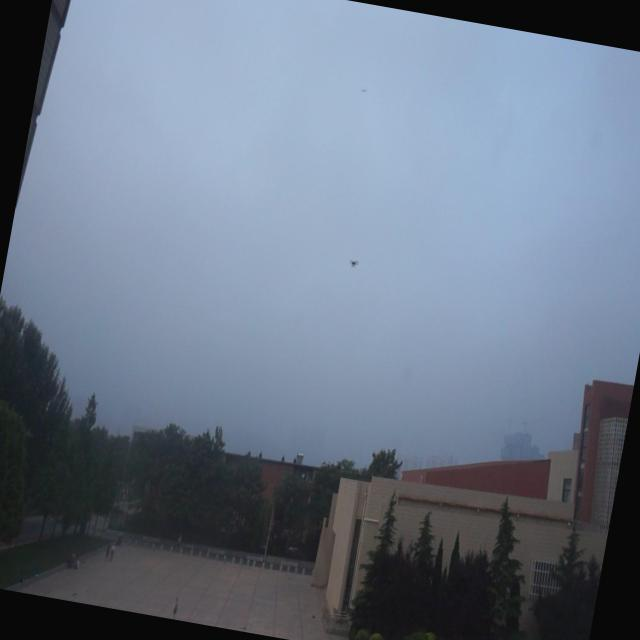drone: (344, 253, 362, 273)
